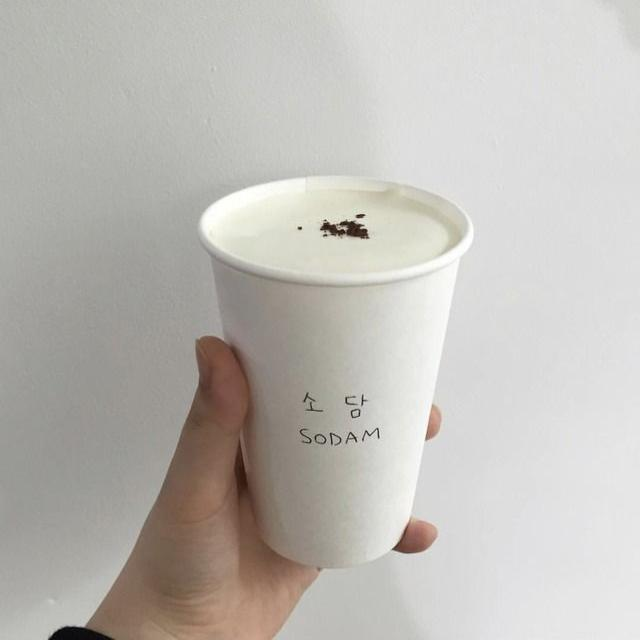paper cup: (196, 175, 474, 568)
